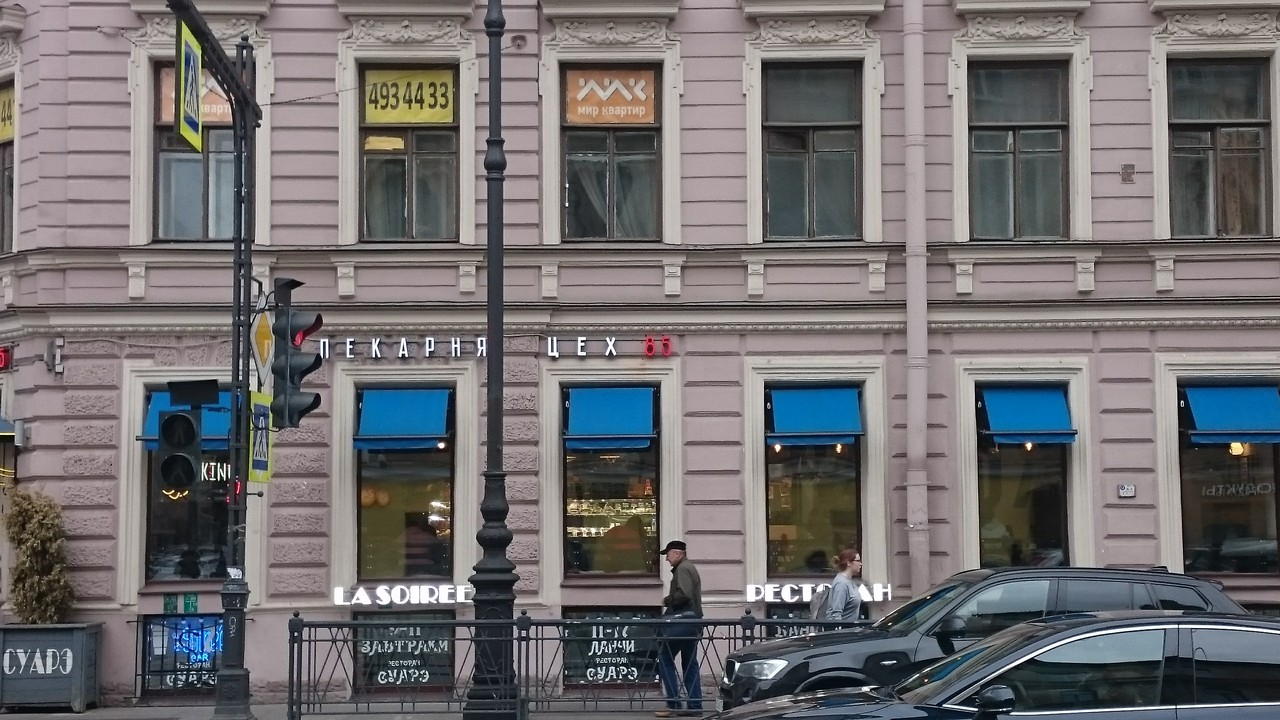signboard: (316, 334, 677, 362), (744, 578, 894, 605), (332, 583, 473, 607)
window: (1165, 52, 1273, 242), (355, 379, 454, 582), (562, 383, 662, 582), (965, 61, 1068, 244), (762, 61, 868, 238), (562, 63, 661, 244), (358, 64, 457, 243), (768, 385, 862, 573), (983, 385, 1071, 569), (157, 66, 247, 243)
